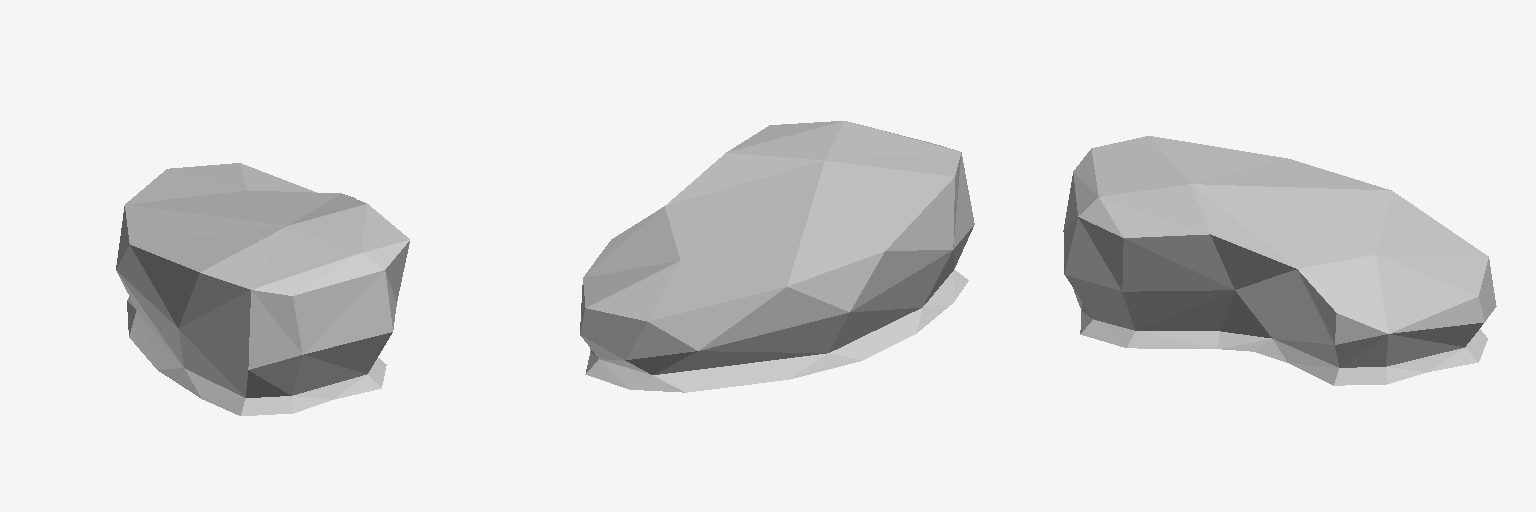
Rendered from Mesh_CavePack_Platform2_lod1.obj.
3 views of the same model, side by side, from view 1: azimuth 30°, elevation 25°; view 2: azimuth 150°, elevation 25°; view 3: azimuth 270°, elevation 25° (orthographic).
Visible parts, largest first — view 1: Circle.001; view 2: Circle.001; view 3: Circle.001.
Part boxes in pixels (x1,y1,x2,y2): Circle.001: (116,163,409,415); Circle.001: (580,121,974,392); Circle.001: (1063,136,1496,385).
Bounding box in the file's own units: 10.14 × 4.86 × 14.47.